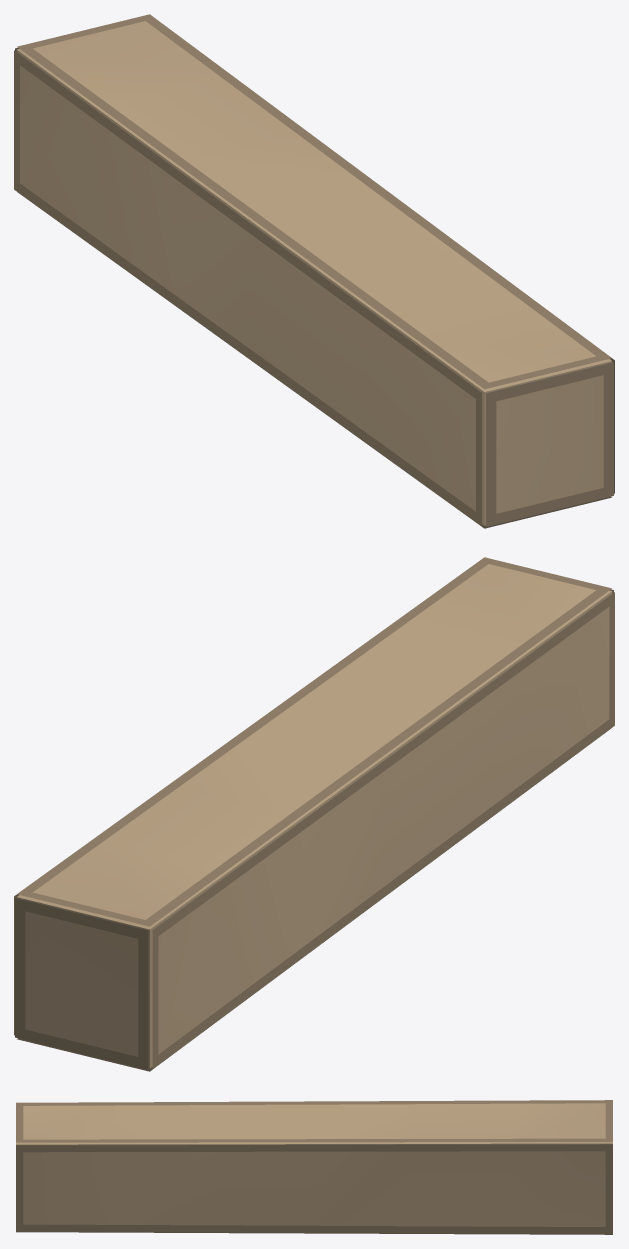
Rendered from key.glb.
The picture shows the model from 3 angles, top to bottom: view 1: azimuth 30°, elevation 25°; view 2: azimuth 150°, elevation 25°; view 3: azimuth 270°, elevation 25°; orthographic projection. The views are drawn at different scales.
Visible parts, largest first — view 1: key; view 2: key; view 3: key.
Boxes of the visible parts, <box> form: key: <box>14,14,614,528</box>; key: <box>14,557,614,1071</box>; key: <box>16,1100,612,1234</box>.
Bounding box in the file's own units: 0.0206 × 0.0206 × 0.1206.
